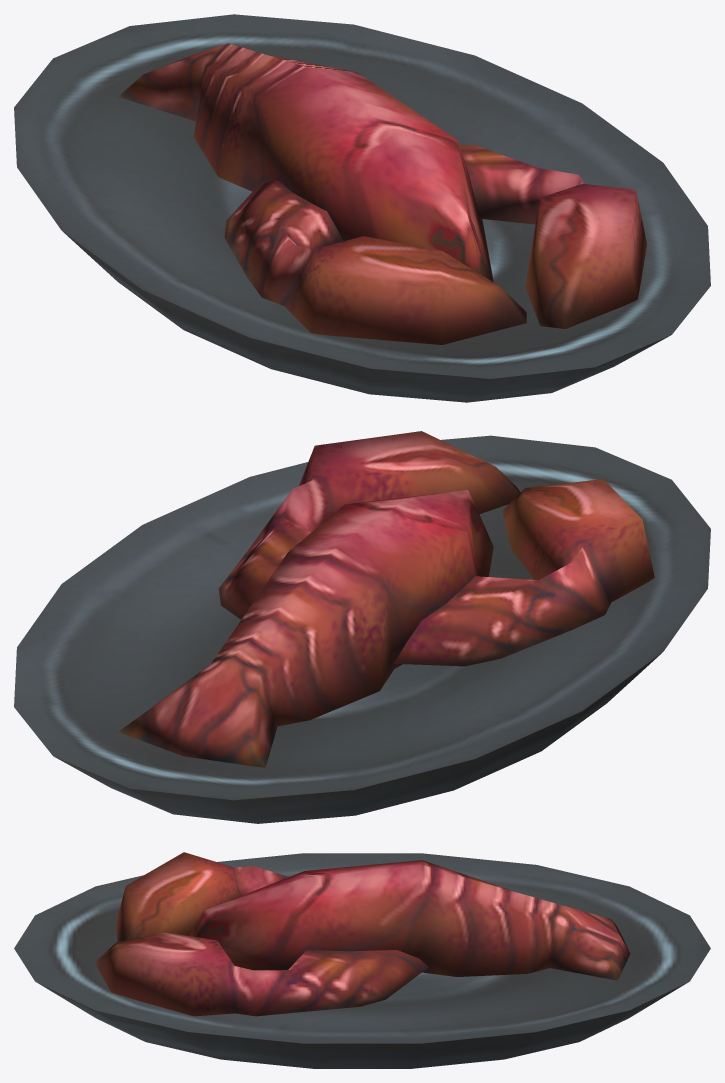
The model's file is lobster.fbx.
3 renders of one model, top to bottom at view 1: azimuth 30°, elevation 25°; view 2: azimuth 150°, elevation 25°; view 3: azimuth 270°, elevation 25°, orthographic. The views are drawn at different scales.
Parts seen in each view (by area): view 1: lobster; view 2: lobster; view 3: lobster.
Part boxes in pixels (x1=…): lobster: x1=14, y1=14, x2=710, y2=402; lobster: x1=14, y1=431, x2=710, y2=823; lobster: x1=14, y1=852, x2=710, y2=1068.
Bounding box in the file's own units: 60.83 × 18.09 × 94.27.
